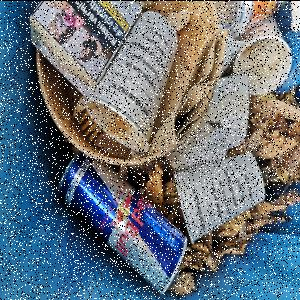Can: (59, 153, 190, 299), (216, 2, 288, 38)
Cup: (84, 9, 182, 157), (174, 149, 269, 245), (234, 29, 295, 97)
Trash: (26, 2, 150, 96)
